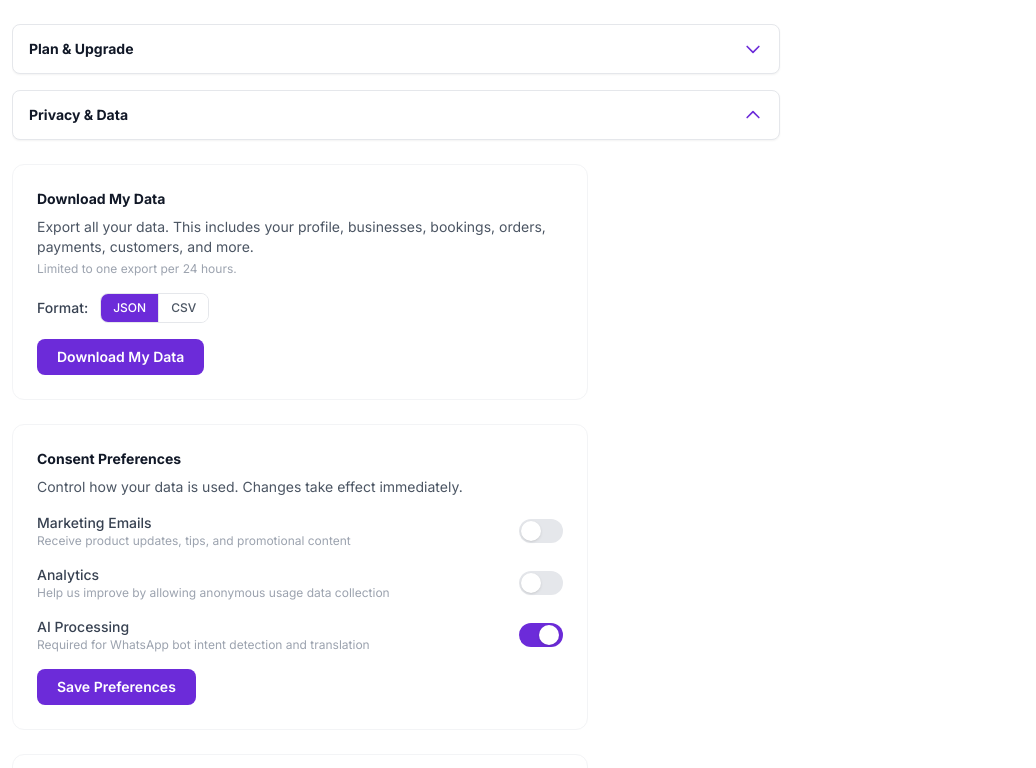
Test: W27 rendered AccountTab with actual consent GET/POST › retains edits after http save failure and retries
Expected: the button "Save Preferences" is shown, [37, 669, 196, 705]
Click the switch named "Toggle marketing emails".
click(541, 531)  # box [519, 519, 563, 543]
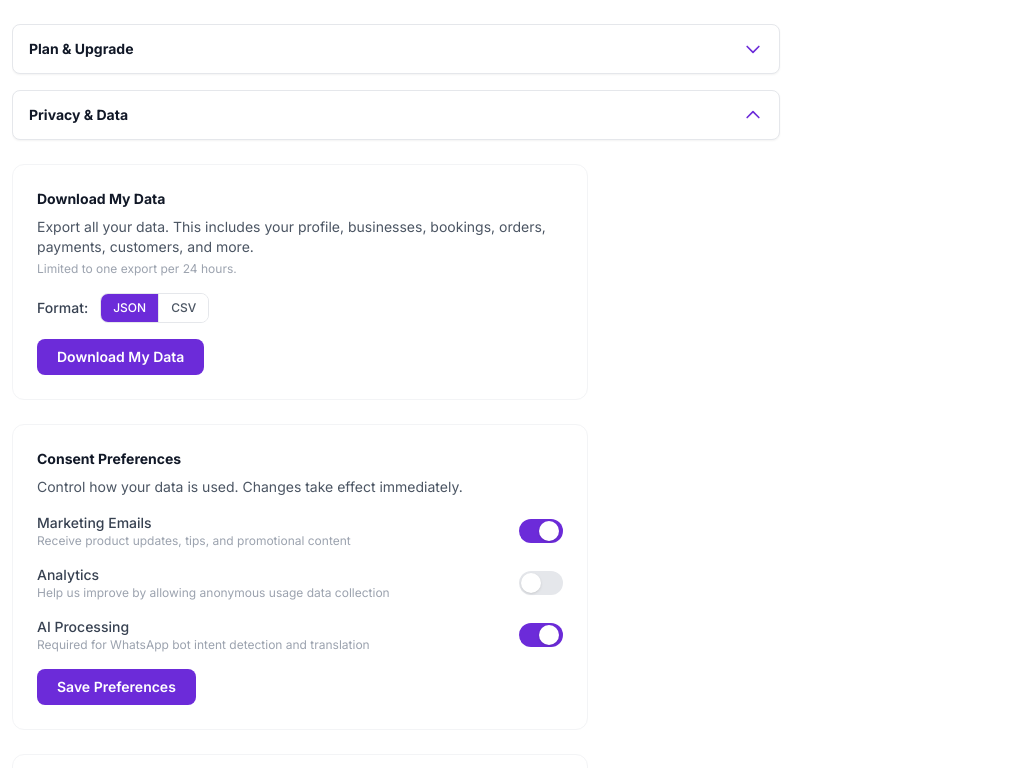
Click the button "Save Preferences".
click(116, 687)  # box [37, 669, 196, 705]
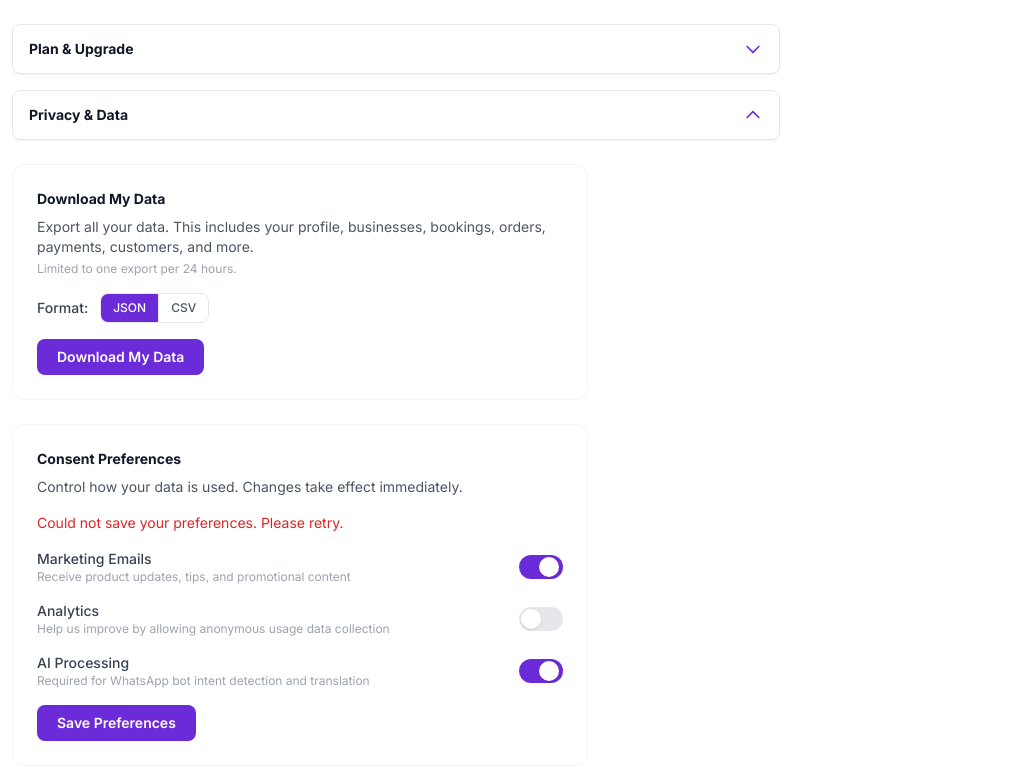
Expected: the text "Preferences saved." is not shown
Now the message "Could not save your preferences. Please retry." is shown, box [37, 514, 343, 531]
Click the button "Save Preferences".
click(116, 723)  # box [37, 705, 196, 741]
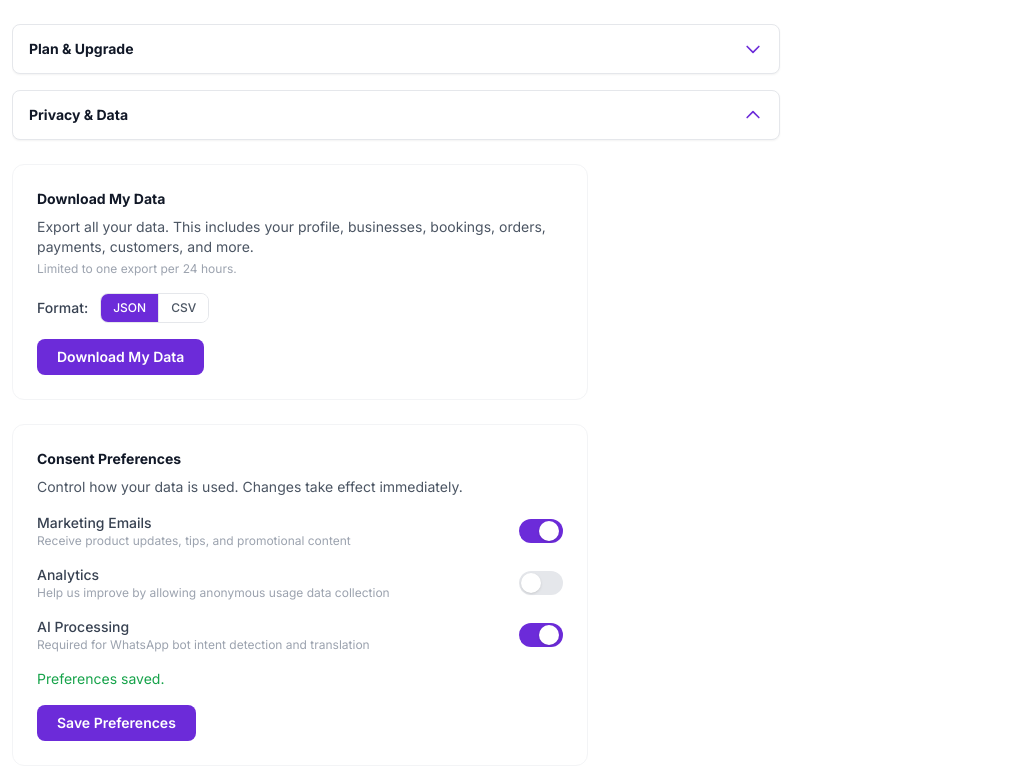
Now the text "Preferences saved." is shown, box [37, 670, 164, 687]
Now the message "Could not save your preferences. Please retry." is gone
